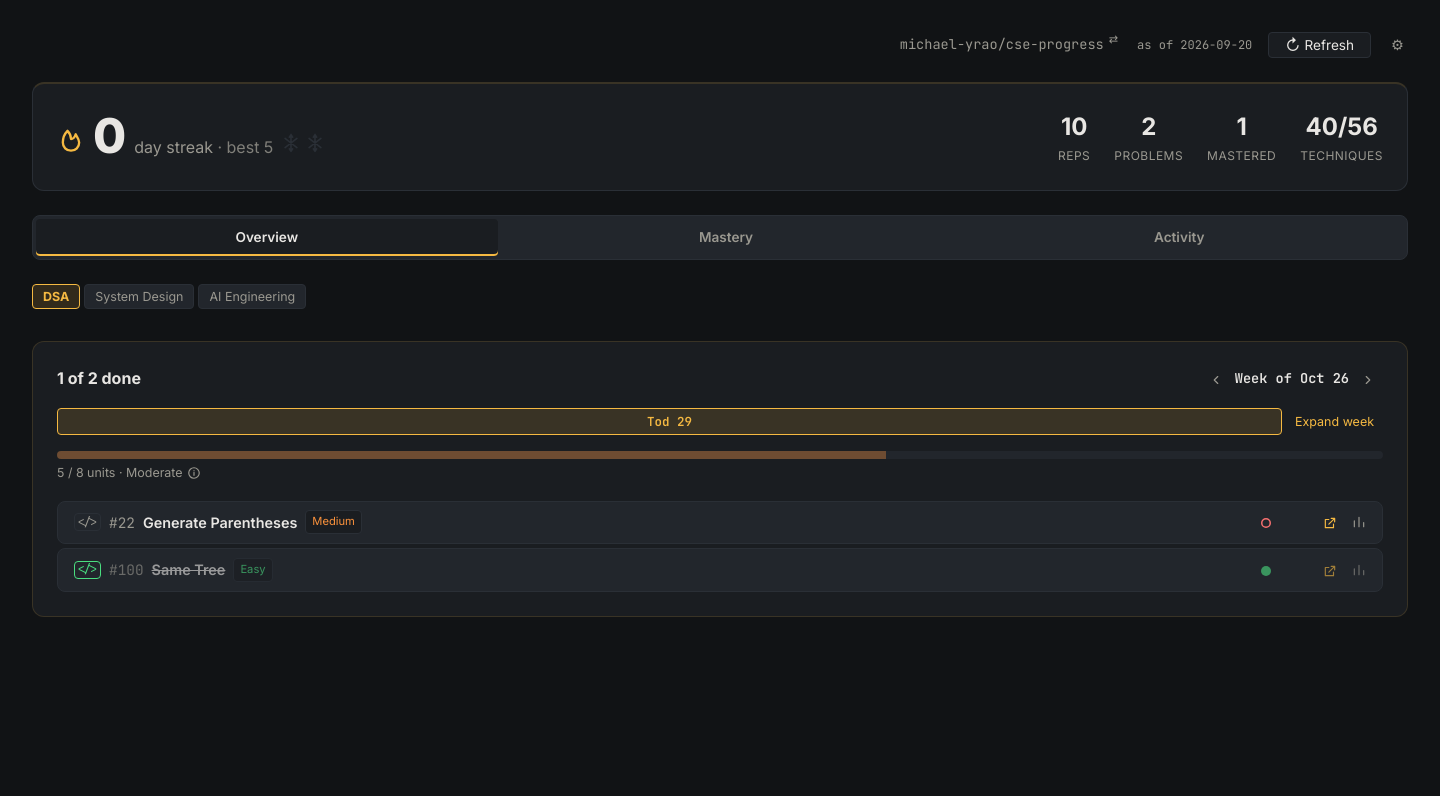
Test case: ProgressPageComponent › clicking "Needs attention" fetches details and expands the list inline, without switching tabs
The width and height of the screenshot is (1440, 796).
Click the tab with id "tab-activity". click: [1179, 238]
box: [954, 219, 1404, 256]
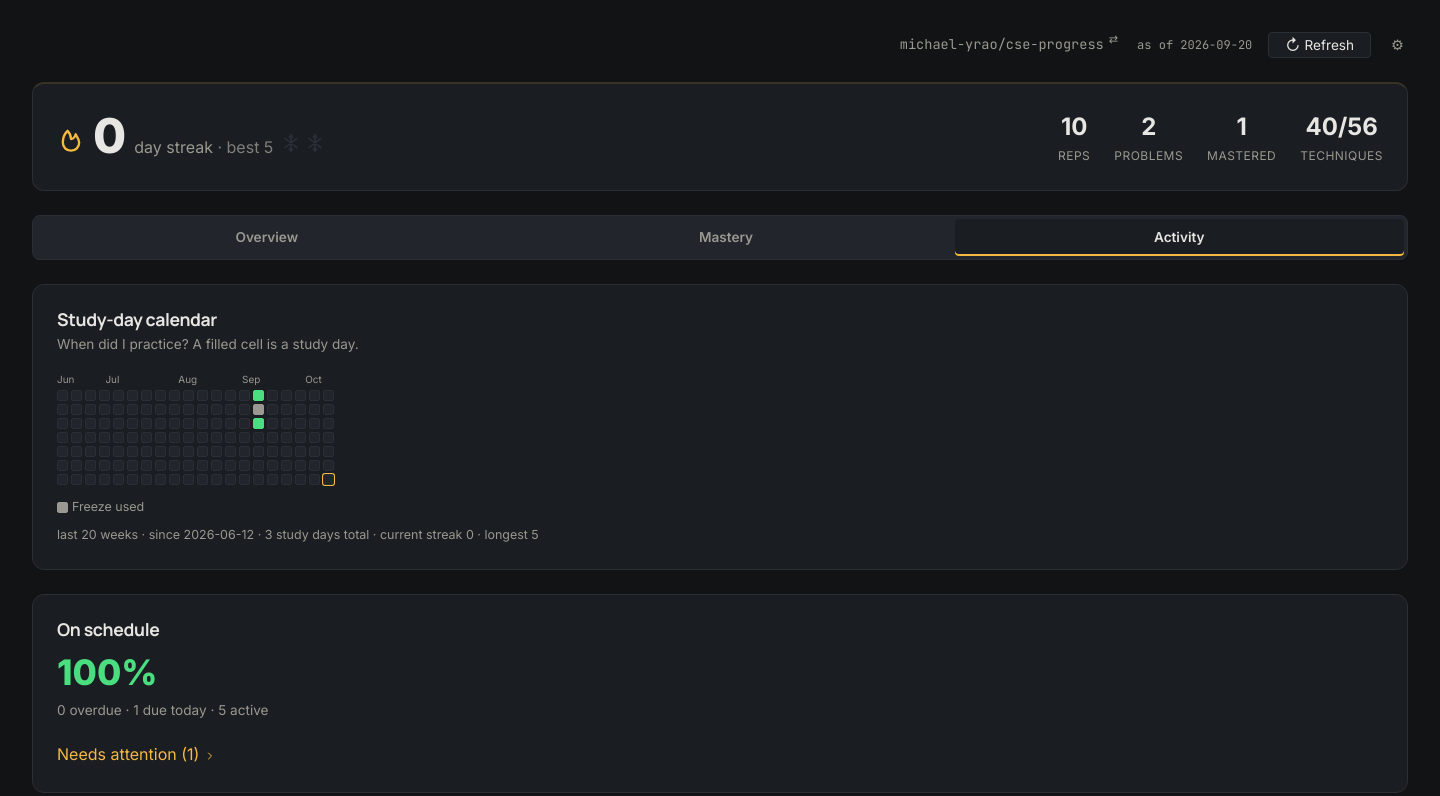
Expected: the button with class "gauge__drill" is shown
Expected: the button with class "gauge__drill" shows "Needs attention"
Click the button with class "gauge__drill". click: [136, 755]
box: [57, 742, 216, 768]
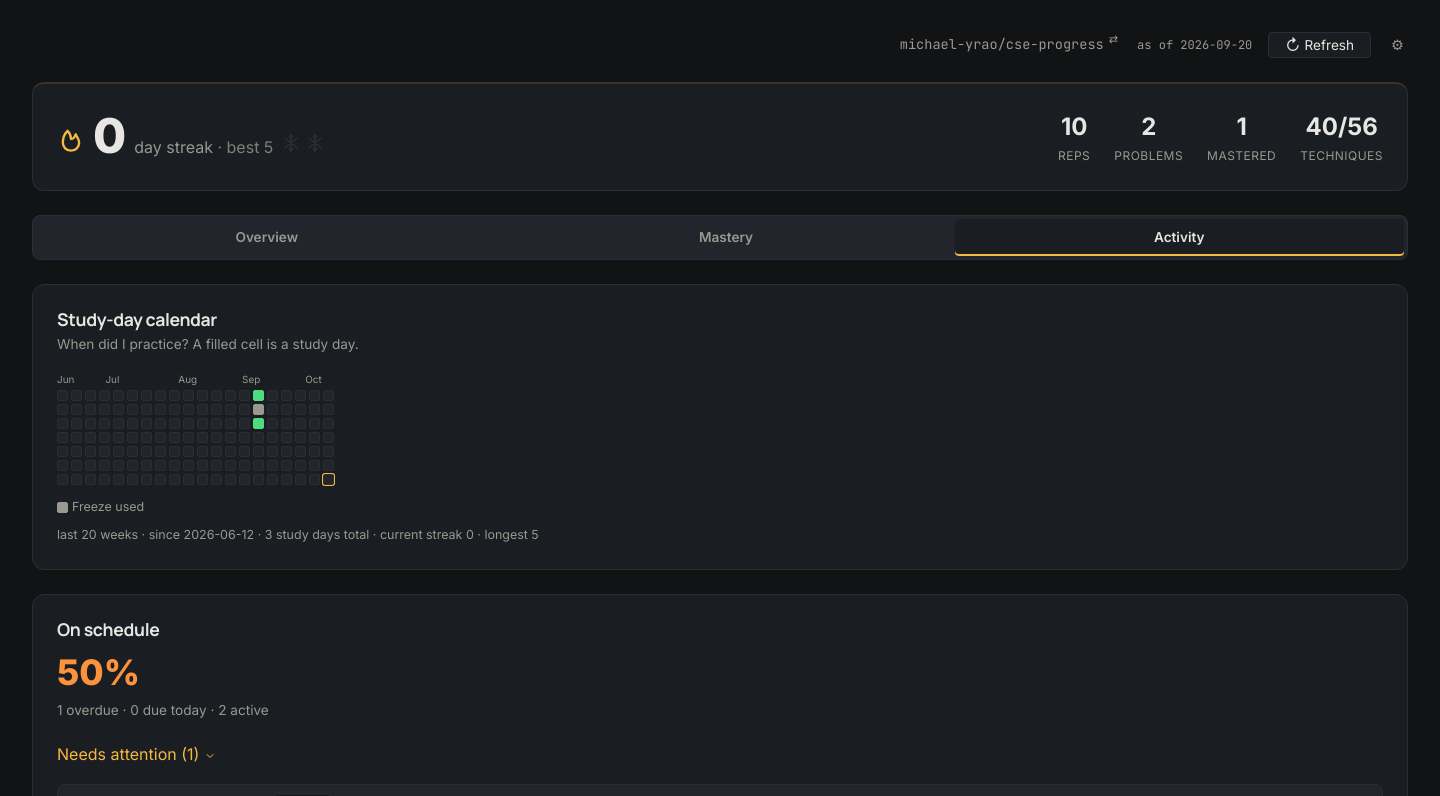
Expected: the button with class "gauge__drill" reads "Needs attention (1)"
Expected: the button with class "gauge__drill" is expanded
Expected: the text with class "card__sub" reads "1 overdue · 0 due today · 2 active", [57, 702, 269, 718]
Click the button with class "gauge__drill". click: [136, 755]
box: [57, 742, 216, 768]
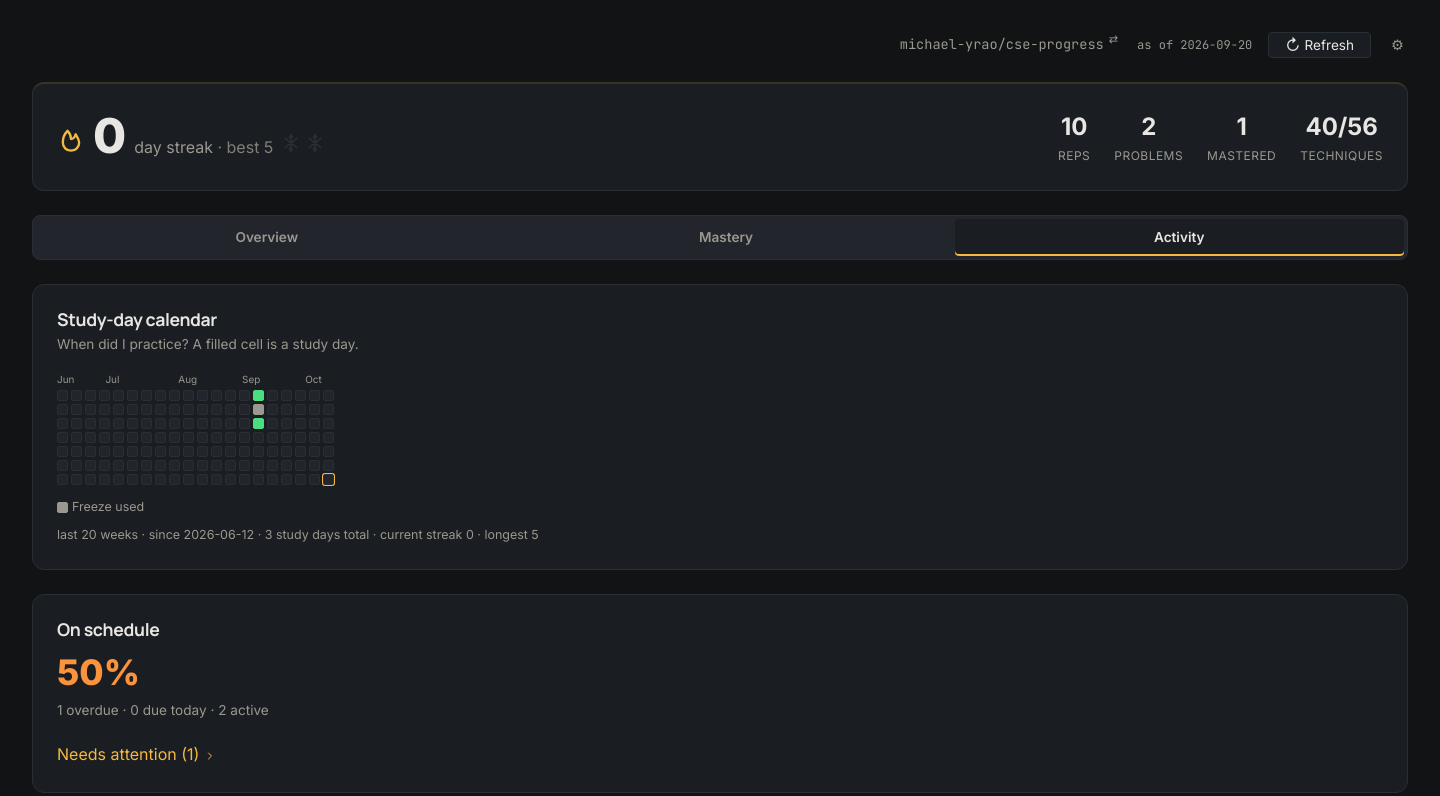
Expected: the button with class "gauge__drill" is collapsed, [57, 742, 216, 768]
